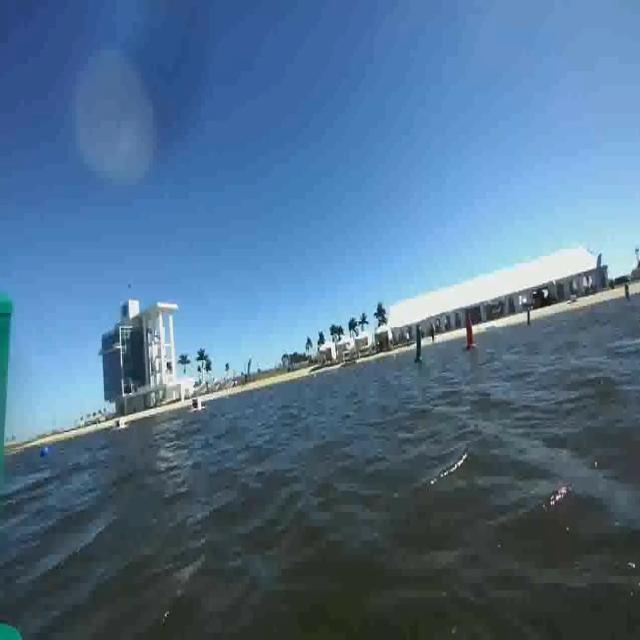green-column-buoy: (414, 326, 426, 365)
red-column-buoy: (464, 313, 476, 352)
